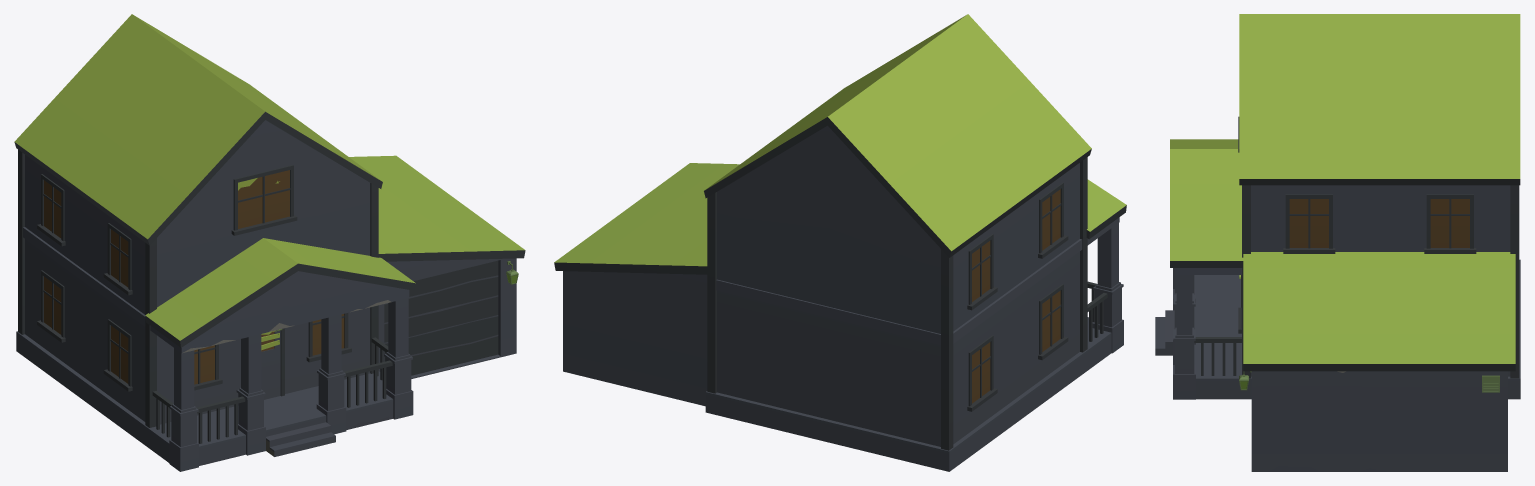
The model's file is OldHouse_14.fbx.
The picture shows the model from 3 angles, left to right: view 1: azimuth 30°, elevation 25°; view 2: azimuth 150°, elevation 25°; view 3: azimuth 270°, elevation 25°; orthographic projection. The views are drawn at different scales.
Parts seen in each view (by area): view 1: OldHouse_14; view 2: OldHouse_14; view 3: OldHouse_14.
Boxes of the visible parts, <box> form: OldHouse_14: <box>14,14,525,471</box>; OldHouse_14: <box>554,14,1126,471</box>; OldHouse_14: <box>1155,14,1520,471</box>.
Size of the model in its own units: 10.2 by 7.92 by 8.06.
